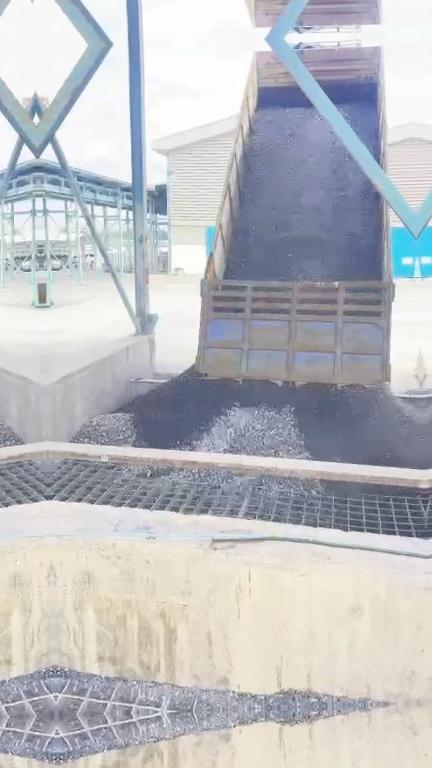gravel: (126, 369, 424, 468), (225, 107, 383, 279), (54, 667, 380, 715), (191, 404, 310, 458), (131, 466, 320, 493), (73, 413, 140, 447), (339, 100, 377, 156)
